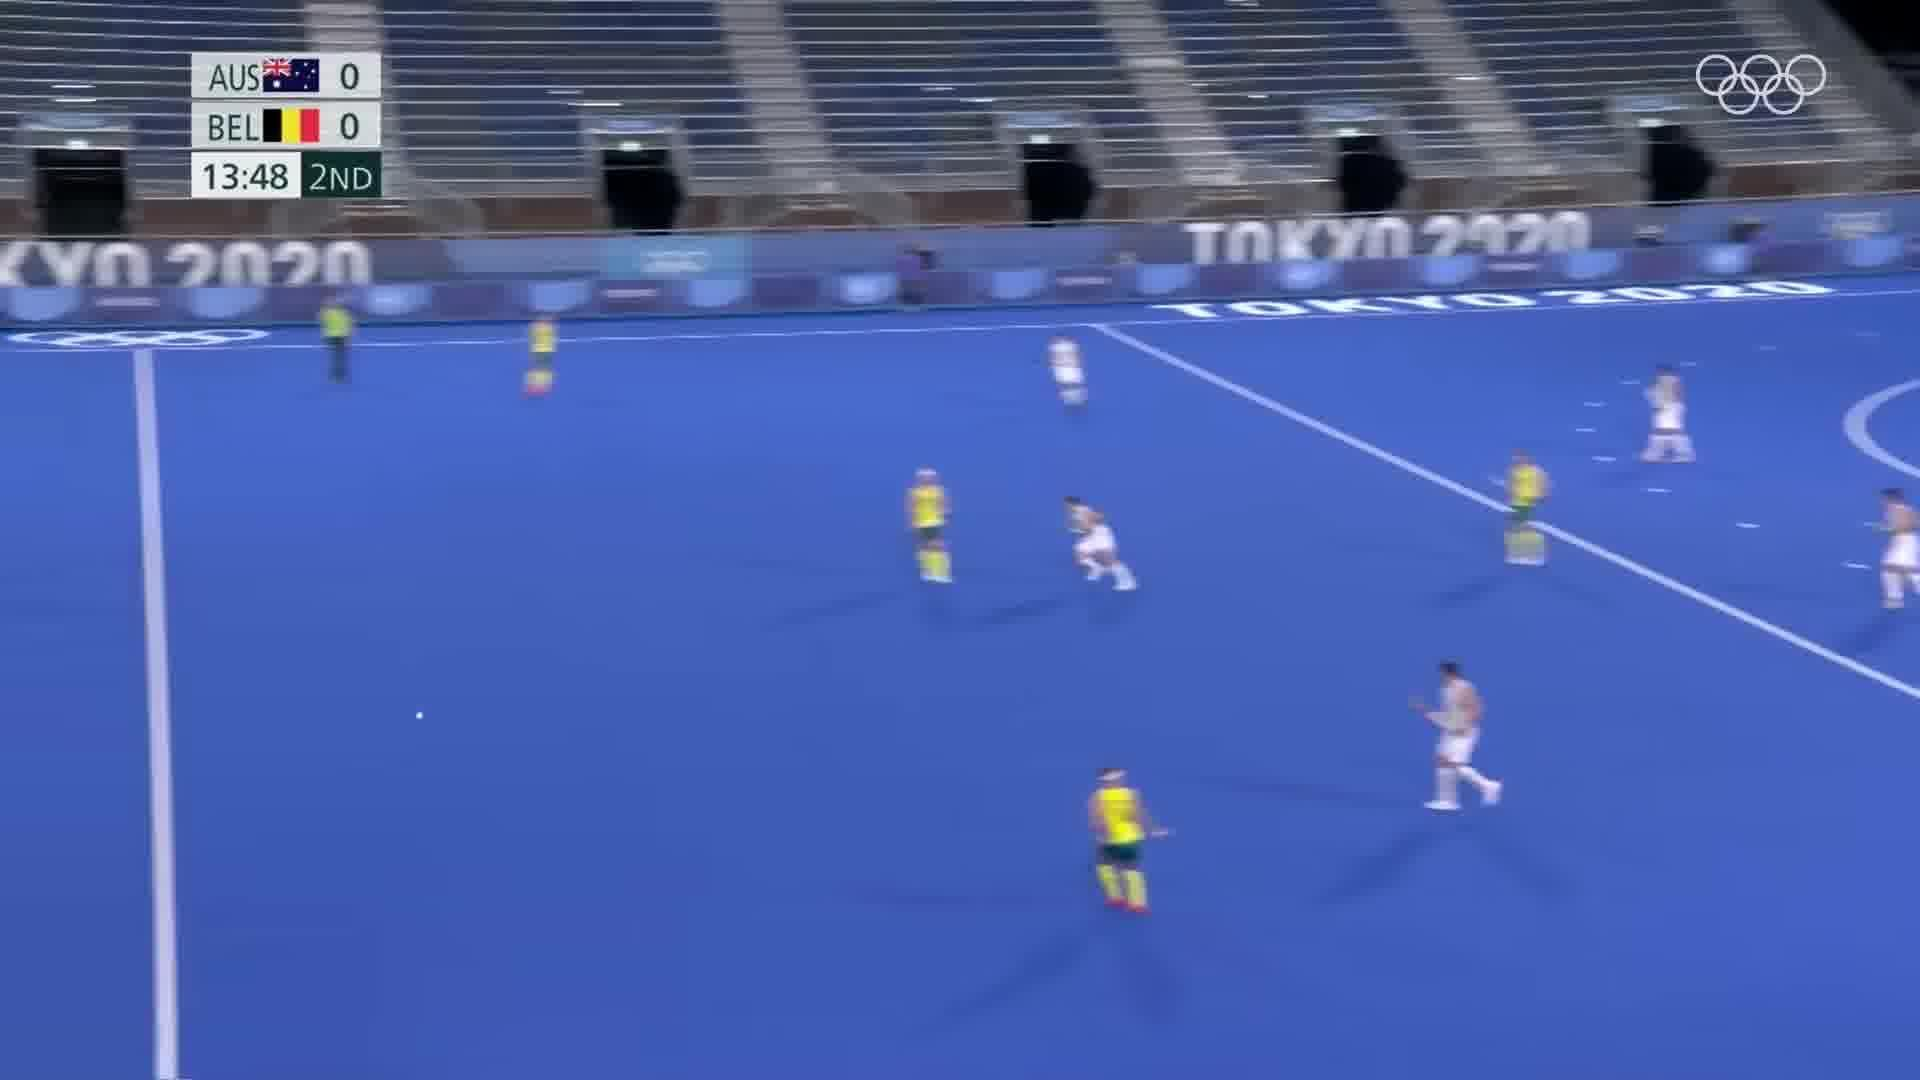ball: (401, 702, 436, 732)
